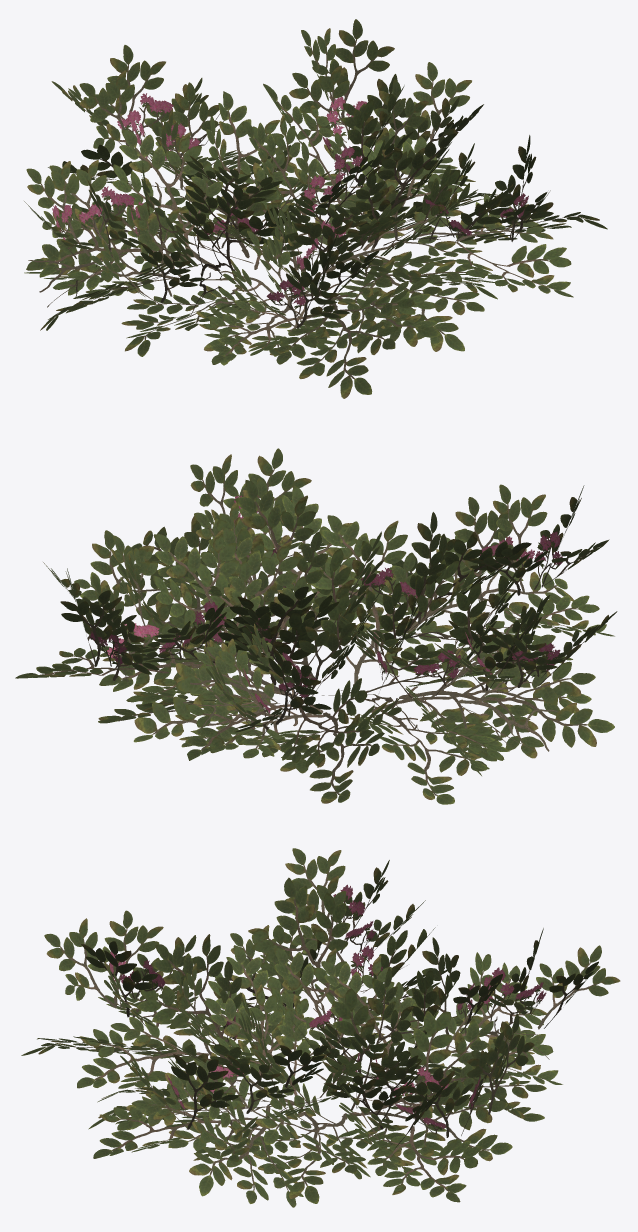
File: Grass02.fbx
3 renders of one model, top to bottom at view 1: azimuth 30°, elevation 25°; view 2: azimuth 150°, elevation 25°; view 3: azimuth 270°, elevation 25°, orthographic. The views are drawn at different scales.
Parts seen in each view (by area): view 1: pal_b00_grass_SM_Bush_01.mo; view 2: pal_b00_grass_SM_Bush_01.mo; view 3: pal_b00_grass_SM_Bush_01.mo.
Part boxes in pixels (x1=…): pal_b00_grass_SM_Bush_01.mo: x1=24, y1=19, x2=607, y2=398; pal_b00_grass_SM_Bush_01.mo: x1=15, y1=448, x2=617, y2=804; pal_b00_grass_SM_Bush_01.mo: x1=21, y1=848, x2=620, y2=1207.
Size of the model in its own units: 194 by 57.63 by 197.
